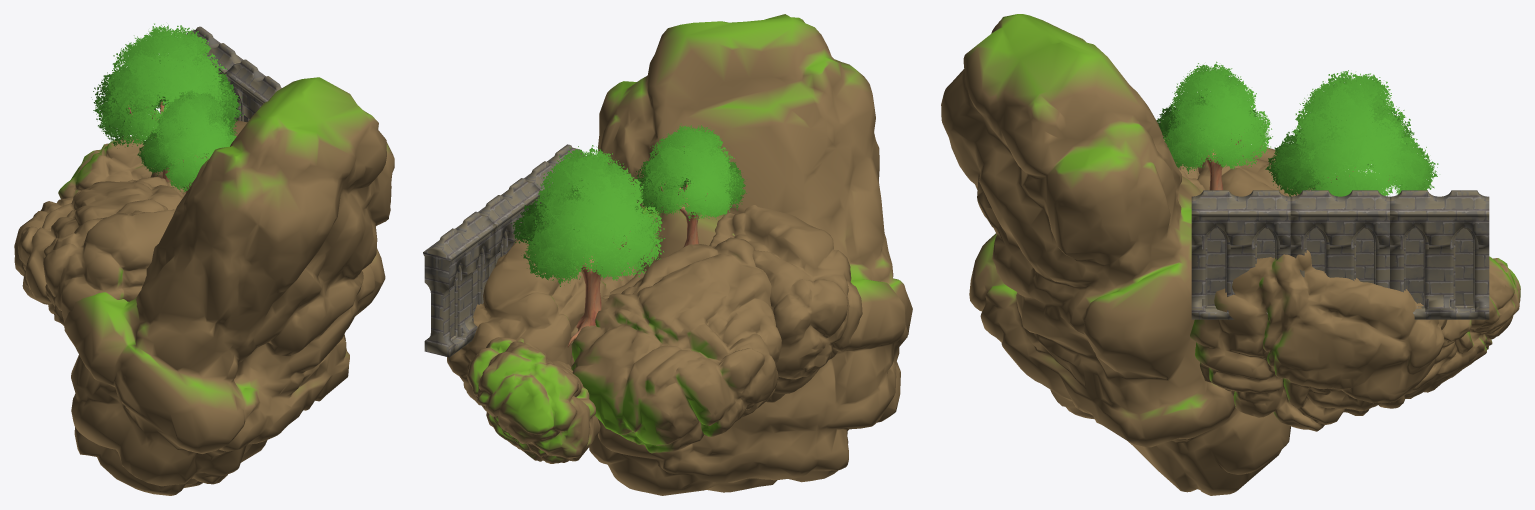
Rendered from cell_x2_z0_render.gltf.
3 renders of one model, left to right at view 1: azimuth 30°, elevation 25°; view 2: azimuth 150°, elevation 25°; view 3: azimuth 270°, elevation 25°, orthographic. The views are drawn at different scales.
Parts seen in each view (by area): view 1: SM_ENV_cliff_castle_02_LOD0.047, SM_ENV_tree_castle_01_LOD0.016, SM_ENV_cliff_castle_01_LOD0.014, SM_ENV_cliff_castle_01_LOD0.010, SM_ENV_tree_castle_01_LOD0.002, SM_ENV_cliff_castle_01_LOD0.049, SM_MOD_citywall_straight_castle_LOD0.001, SM_MOD_citywall_straight_castle_LOD0.010; view 2: SM_ENV_cliff_castle_02_LOD0.047, SM_ENV_cliff_castle_01_LOD0.010, SM_ENV_tree_castle_01_LOD0.016, SM_ENV_cliff_castle_01_LOD0.014, SM_ENV_cliff_castle_01_LOD0.049, SM_ENV_cliff_castle_01_LOD0.006, SM_ENV_tree_castle_01_LOD0.002, SM_MOD_citywall_straight_castle_LOD0.010, SM_MOD_citywall_straight_castle_LOD0.001, SM_MOD_citywall_straight_castle_LOD0.005; view 3: SM_ENV_cliff_castle_02_LOD0.047, SM_ENV_cliff_castle_01_LOD0.006, SM_ENV_tree_castle_01_LOD0.016, SM_MOD_citywall_straight_castle_LOD0.010, SM_MOD_citywall_straight_castle_LOD0.005, SM_ENV_tree_castle_01_LOD0.002, SM_MOD_citywall_straight_castle_LOD0.001, SM_ENV_cliff_castle_01_LOD0.049, SM_ENV_cliff_castle_01_LOD0.010.
Part boxes in pixels (x1,y1,x2,y2): SM_ENV_cliff_castle_02_LOD0.047: (64,77,394,495); SM_ENV_tree_castle_01_LOD0.016: (91,23,245,181); SM_ENV_cliff_castle_01_LOD0.014: (43,209,175,325); SM_ENV_cliff_castle_01_LOD0.010: (14,177,185,313); SM_ENV_tree_castle_01_LOD0.002: (137,90,237,192); SM_ENV_cliff_castle_01_LOD0.049: (58,136,153,199); SM_MOD_citywall_straight_castle_LOD0.001: (224,59,281,122); SM_MOD_citywall_straight_castle_LOD0.010: (186,26,243,80); SM_ENV_cliff_castle_02_LOD0.047: (589,14,912,495); SM_ENV_cliff_castle_01_LOD0.010: (571,237,781,453); SM_ENV_tree_castle_01_LOD0.016: (511,145,665,347); SM_ENV_cliff_castle_01_LOD0.014: (709,205,862,402); SM_ENV_cliff_castle_01_LOD0.049: (466,337,600,463); SM_ENV_cliff_castle_01_LOD0.006: (447,237,638,402); SM_ENV_tree_castle_01_LOD0.002: (635,123,746,247); SM_MOD_citywall_straight_castle_LOD0.010: (423,211,496,357); SM_MOD_citywall_straight_castle_LOD0.001: (478,178,541,276); SM_MOD_citywall_straight_castle_LOD0.005: (524,144,584,198); SM_ENV_cliff_castle_02_LOD0.047: (941,14,1290,495); SM_ENV_cliff_castle_01_LOD0.006: (1190,250,1447,431); SM_ENV_tree_castle_01_LOD0.016: (1265,70,1438,196); SM_MOD_citywall_straight_castle_LOD0.010: (1390,190,1489,319); SM_MOD_citywall_straight_castle_LOD0.005: (1191,190,1290,319); SM_ENV_tree_castle_01_LOD0.002: (1156,61,1272,190); SM_MOD_citywall_straight_castle_LOD0.001: (1290,190,1389,288); SM_ENV_cliff_castle_01_LOD0.049: (1378,256,1520,408); SM_ENV_cliff_castle_01_LOD0.010: (1197,146,1320,196).
Size of the model in its own units: 31.44 by 40.15 by 46.75.
4 materials, 3 textured.
